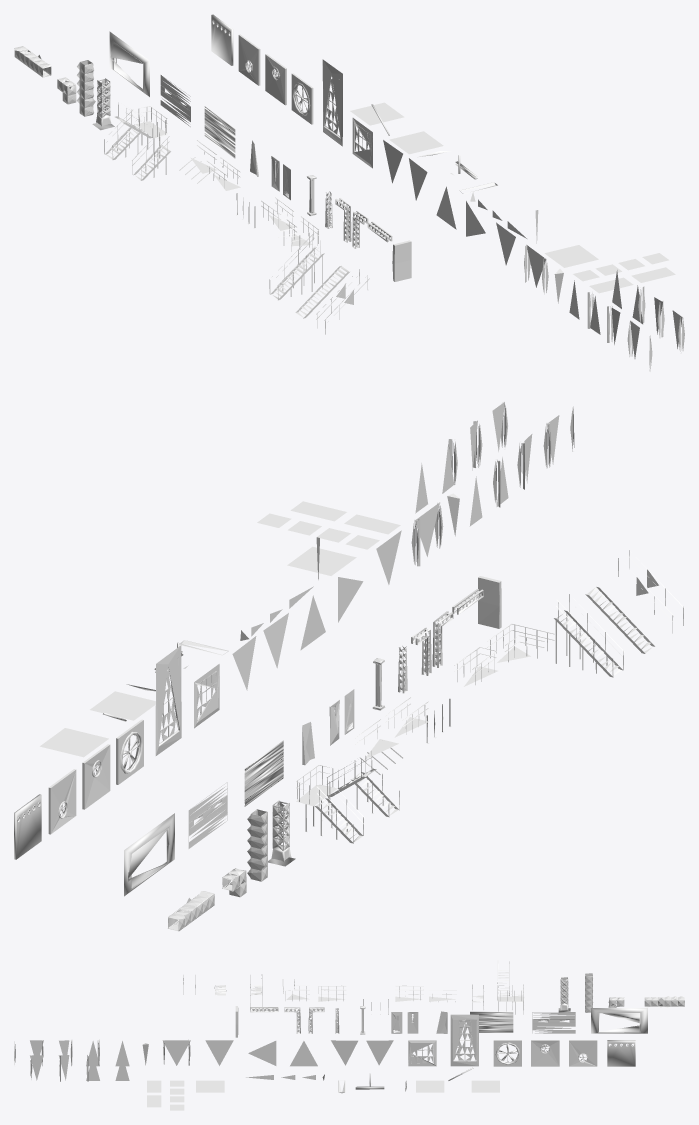
The model's file is factory_kit.glb.
3 views of the same model, one above another, from view 1: azimuth 30°, elevation 25°; view 2: azimuth 150°, elevation 25°; view 3: azimuth 270°, elevation 25° (orthographic). The views are drawn at different scales.
Parts seen in each view (by area): view 1: Factory_modularKit_79, Factory_modularKit_03, Factory_modularKit_37, Factory_modularKit_07, Factory_modularKit_35, Factory_modularKit_57, Factory_modularKit_94.002, Factory_modularKit_30, Factory_modularKit_94.001, Factory_modularKit_15, Factory_modularKit_94, Factory_modularKit_29 (+7 smaller); view 2: Factory_modularKit_79, Factory_modularKit_03, Factory_modularKit_37, Factory_modularKit_07, Factory_modularKit_35, Factory_modularKit_94.002, Factory_modularKit_57, Factory_modularKit_94.001, Factory_modularKit_30, Factory_modularKit_04, Factory_modularKit_29, Factory_modularKit_76 (+8 smaller); view 3: Factory_modularKit_03, Factory_modularKit_37, Factory_modularKit_07, Factory_modularKit_57, Factory_modularKit_94.001, Factory_modularKit_94.002, Factory_modularKit_36, Factory_modularKit_08, Factory_modularKit_94, Factory_modularKit_16, Factory_modularKit_79, Factory_modularKit_04 (+15 smaller).
Part boxes in pixels (x1,y1,x2,y2): Factory_modularKit_79: (104,102,167,159); Factory_modularKit_03: (109,31,149,96); Factory_modularKit_37: (322,59,342,146); Factory_modularKit_07: (204,106,235,158); Factory_modularKit_35: (269,233,324,300); Factory_modularKit_57: (211,14,233,65); Factory_modularKit_94.002: (238,34,260,85); Factory_modularKit_30: (76,60,95,116); Factory_modularKit_94.001: (265,54,286,105); Factory_modularKit_15: (392,240,411,281); Factory_modularKit_94: (291,73,313,124); Factory_modularKit_29: (92,78,114,130); Factory_modularKit_79: (296,751,376,843); Factory_modularKit_03: (124,813,174,896); Factory_modularKit_37: (155,645,181,755); Factory_modularKit_07: (244,740,283,806); Factory_modularKit_35: (554,594,624,677); Factory_modularKit_94.002: (48,769,76,834); Factory_modularKit_57: (14,794,41,859); Factory_modularKit_94.001: (82,744,110,809); Factory_modularKit_30: (247,809,267,881); Factory_modularKit_04: (411,502,443,566); Factory_modularKit_29: (268,800,295,866); Factory_modularKit_76: (40,728,108,757); Factory_modularKit_03: (591,1008,647,1033); Factory_modularKit_37: (450,1014,478,1066); Factory_modularKit_07: (470,1011,513,1032); Factory_modularKit_57: (607,1040,635,1066); Factory_modularKit_94.001: (531,1040,559,1066); Factory_modularKit_94.002: (569,1040,597,1066); Factory_modularKit_36: (408,1040,436,1066); Factory_modularKit_08: (532,1012,575,1032); Factory_modularKit_94: (493,1040,521,1066); Factory_modularKit_16: (532,1012,575,1033); Factory_modularKit_79: (497,960,524,1014); Factory_modularKit_04: (162,1040,190,1065).
Size of the model in its own units: 24.12 by 5.06 by 58.9.
9 materials, 2 textured.
